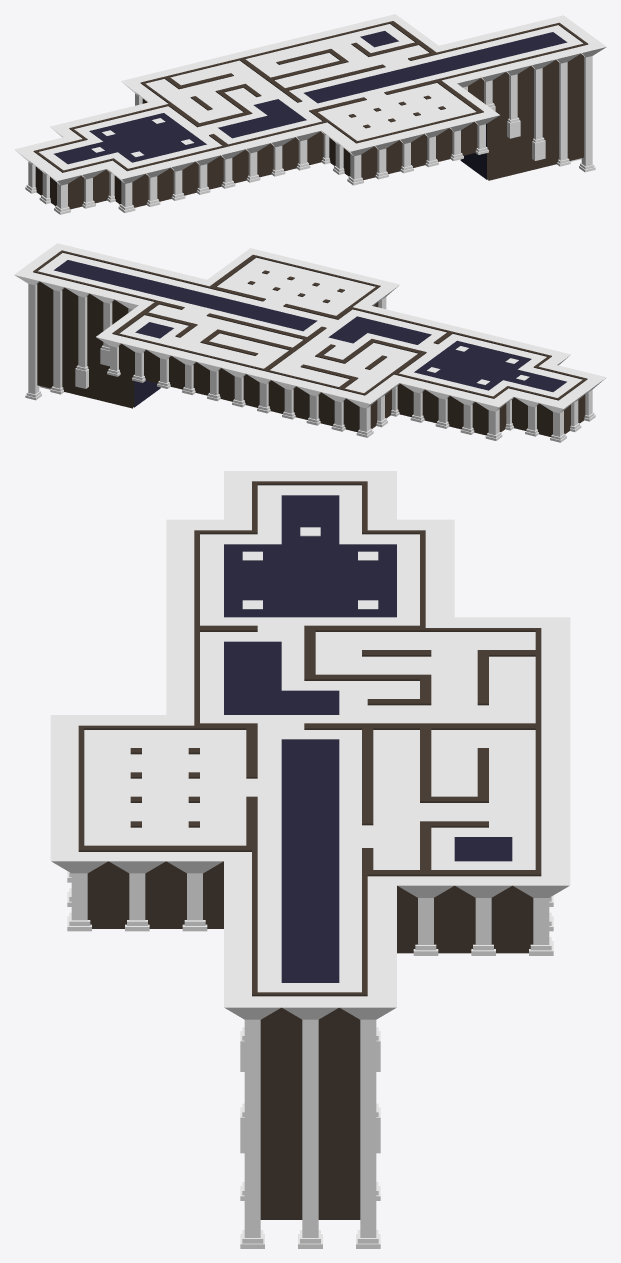
Rendered from niveau_4.fbx.
The picture shows the model from 3 angles, top to bottom: view 1: azimuth 30°, elevation 25°; view 2: azimuth 150°, elevation 25°; view 3: azimuth 270°, elevation 25°; orthographic projection. The views are drawn at different scales.
Parts seen in each view (by area): view 1: colonnes et plafond, Maze; view 2: colonnes et plafond, Maze; view 3: colonnes et plafond, Maze.
Boxes of the visible parts, bbox=[...] form: colonnes et plafond: bbox=[14, 14, 606, 214]; Maze: bbox=[33, 21, 588, 209]; colonnes et plafond: bbox=[14, 243, 606, 442]; Maze: bbox=[33, 250, 587, 436]; colonnes et plafond: bbox=[50, 471, 570, 1248]; Maze: bbox=[78, 481, 541, 1219].
Bounding box in the file's own units: 4391 × 954 × 1796.
